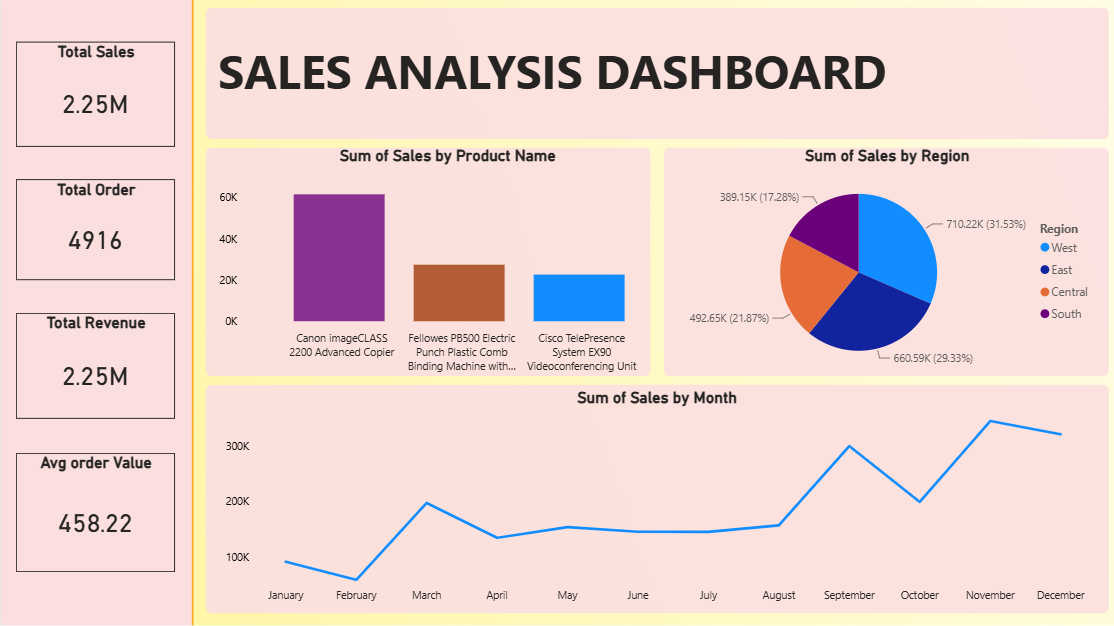

The page's visual inventory and layout, read from the dashboard file:
{"tool":"powerbi","page":{"name":"Page 1","canvas":[1280,720],"ordinal":0},"visuals":[{"type":"card","title":"Total Sales","fields":{"Values":["cleaned_superstore.Total Sales"]},"box":[17.3,50.5,181.8,119.7],"z":0},{"type":"card","title":"Total Revenue","fields":{"Values":["cleaned_superstore.Total Revenue"]},"box":[17.3,360.7,181.8,121.2],"z":1000},{"type":"card","title":"Total Order","fields":{"Values":["cleaned_superstore.Total Orders"]},"box":[17.3,207.8,181.8,115.4],"z":2000},{"type":"card","title":"Avg order Value","fields":{"Values":["cleaned_superstore.Average Order Value"]},"box":[17.3,519.4,181.8,135.6],"z":3000},{"type":"lineChart","fields":{"Category":["cleaned_superstore.Order Date.Variation.Date Hierarchy.Month"],"Y":["Sum(cleaned_superstore.Sales)"]},"box":[251,445.8,996.9,255.4],"z":4000},{"type":"clusteredColumnChart","fields":{"Category":["cleaned_superstore.Product Name"],"Y":["Sum(cleaned_superstore.Sales)"]},"box":[242.5,170.1,535.7,266.6],"z":5000},{"type":"pieChart","fields":{"Category":["cleaned_superstore.Region"],"Y":["Sum(cleaned_superstore.Sales)"]},"box":[768.5,170.1,488.6,266.6],"z":6000},{"type":"textbox","box":[242.5,41,808.3,138.7],"z":6001}]}

Visuals, with their boxes in screenshot pixels (x1, y1, x2, y2), scaled from the page's 1280x720 canvas onto the 1114x626 screenshot:
"Total Sales" card: [left=15, top=44, right=173, bottom=148]
"Total Revenue" card: [left=15, top=314, right=173, bottom=419]
"Total Order" card: [left=15, top=181, right=173, bottom=281]
"Avg order Value" card: [left=15, top=452, right=173, bottom=569]
lineChart - cleaned_superstore.Order Date.Variation.Date Hierarchy.Month x Sum(cleaned_superstore.Sales): [left=218, top=388, right=1086, bottom=610]
clusteredColumnChart - cleaned_superstore.Product Name x Sum(cleaned_superstore.Sales): [left=211, top=148, right=677, bottom=380]
pieChart - cleaned_superstore.Region x Sum(cleaned_superstore.Sales): [left=669, top=148, right=1094, bottom=380]
textbox: [left=211, top=36, right=915, bottom=156]
